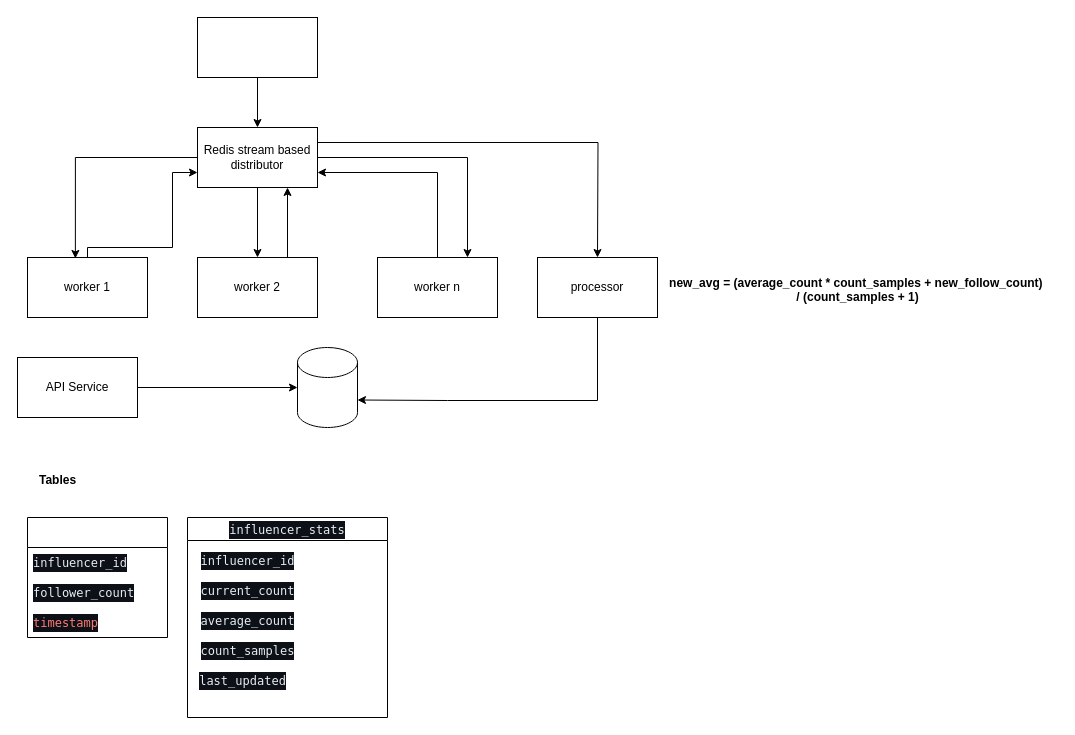
Some shapes in this 1075 by 735 pixel diagram are drawn without their labels. Here are the shapes that lost their labels. From the top down, the box of each, then its label:
(196, 16, 318, 78): Mockstagram service
(296, 346, 358, 428): Timescale DB
(26, 516, 168, 638): follower_counts
